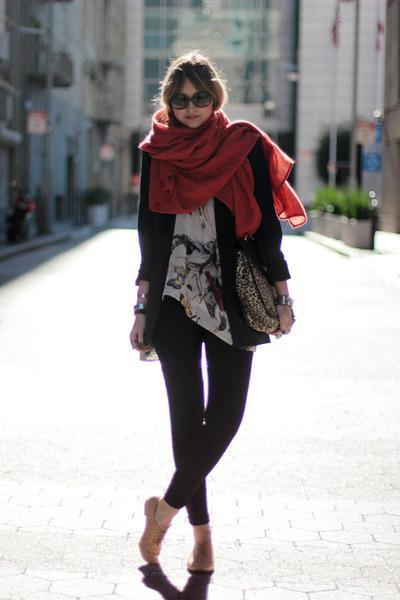jacket: (142, 123, 293, 348)
short sleeve shirt: (162, 197, 242, 352)
trousers: (150, 290, 256, 521)
